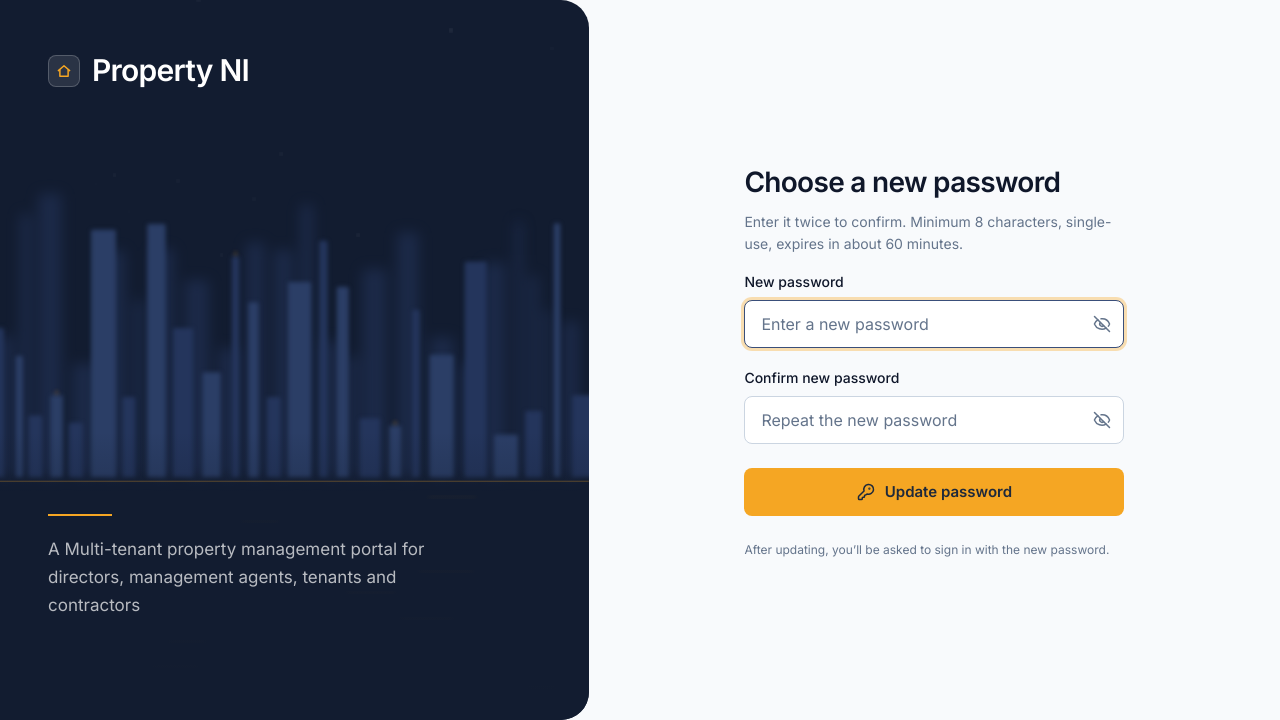
Test case: /auth/reset-password page › success → "Password updated" then push /login?password_reset=1 with the POST body intact
Type "S3cretpass!" into the password field labelled "New password".
click(934, 324); type("S3cretpass!")  # box [744,300,1124,348]
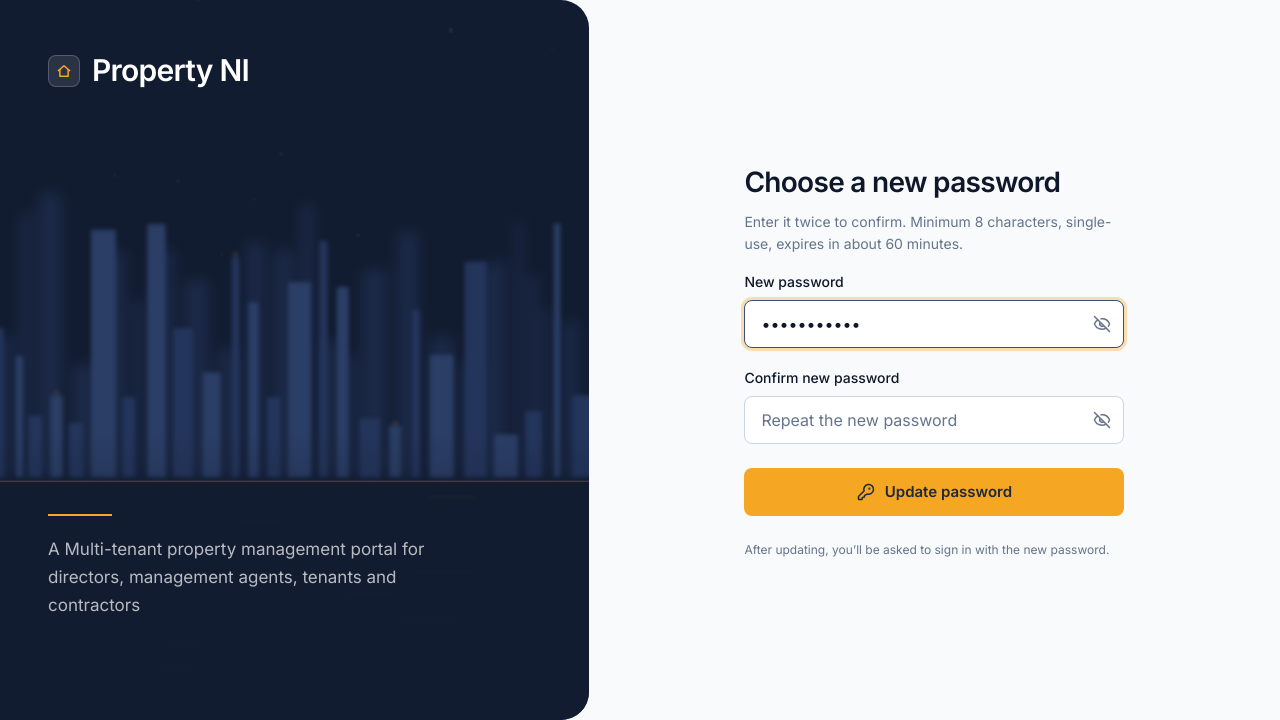
Type "S3cretpass!" into the password field labelled "Confirm new password".
click(934, 420); type("S3cretpass!")  # box [744,396,1124,444]
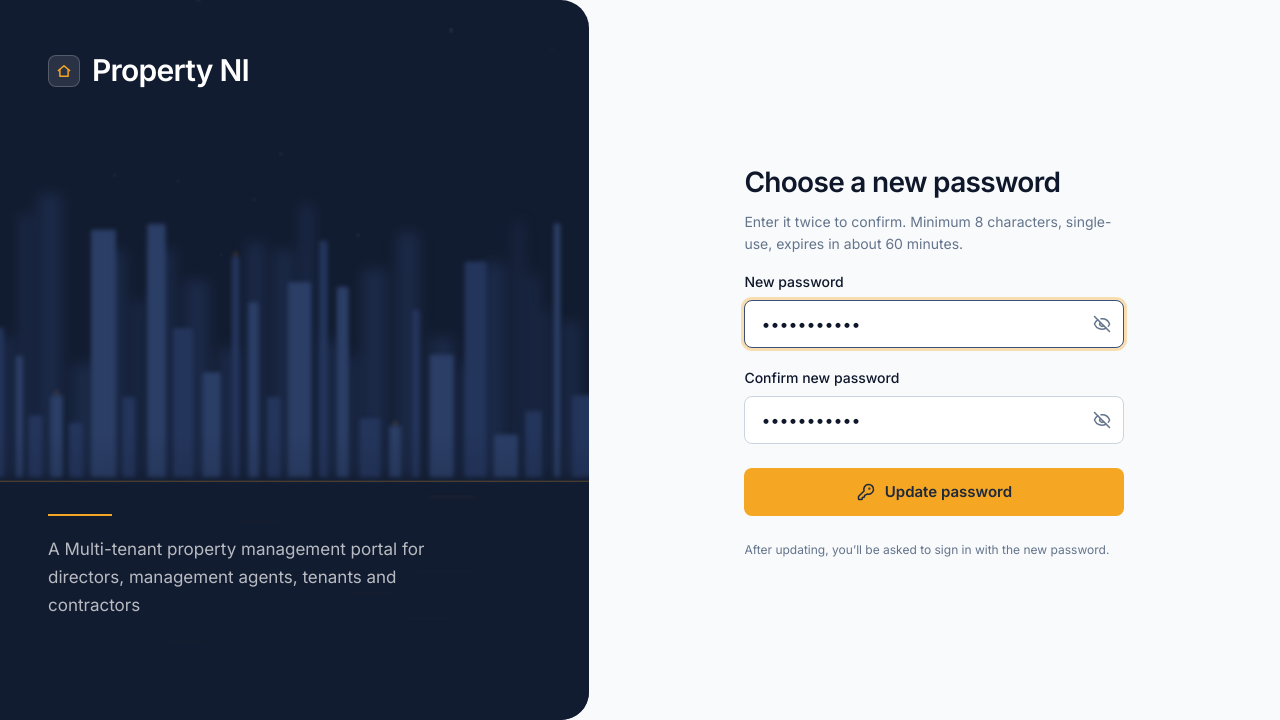
Click the button "Update password".
click(934, 492)  # box [744,468,1124,516]
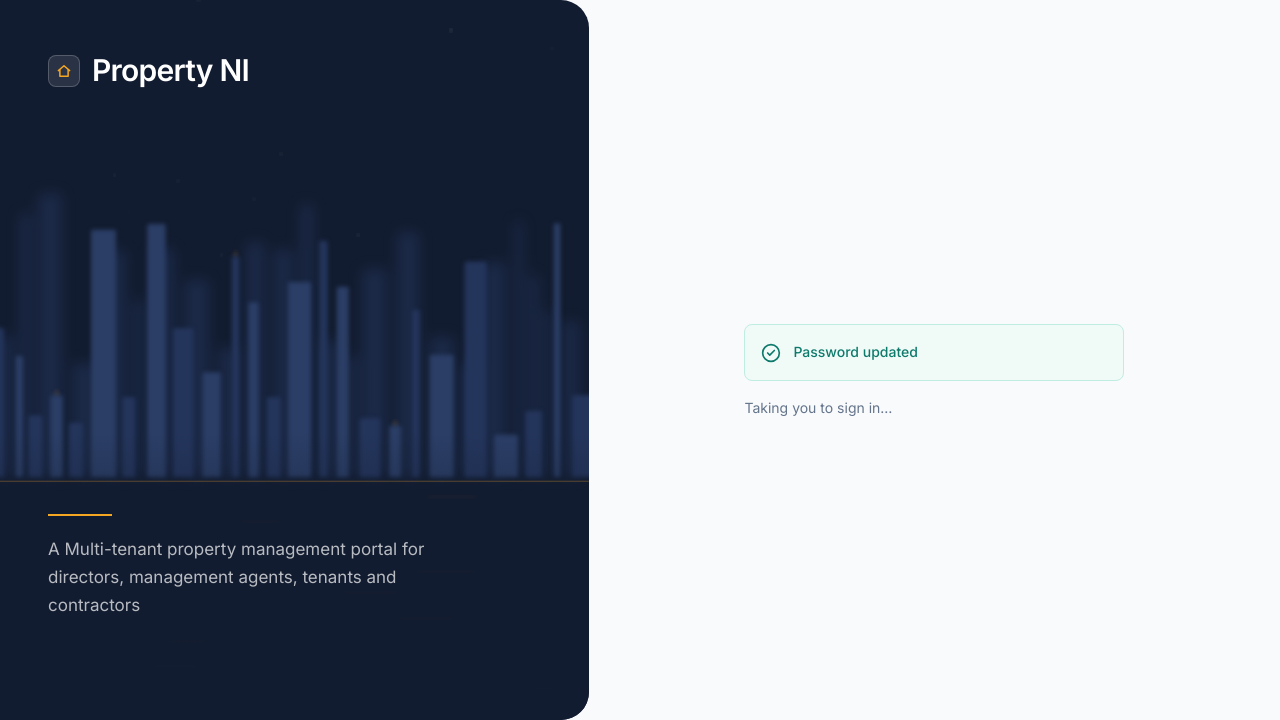
Result: the text "Password updated" is shown at [793,341,918,364]
